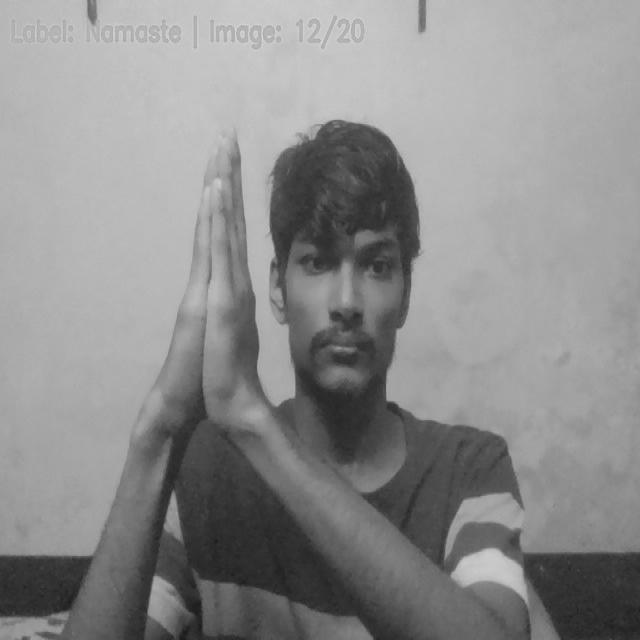Namaste: (161, 115, 265, 441)
